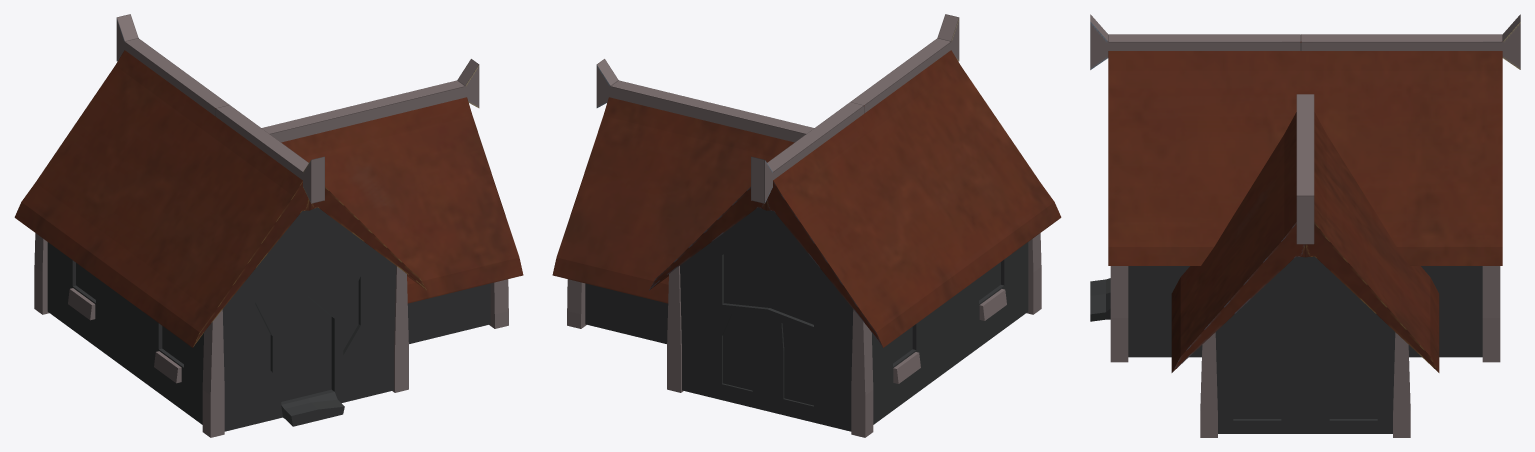
The model's file is house01.fbx.
The picture shows the model from 3 angles, left to right: view 1: azimuth 30°, elevation 25°; view 2: azimuth 150°, elevation 25°; view 3: azimuth 270°, elevation 25°; orthographic projection. The views are drawn at different scales.
Visible parts, largest first — view 1: cuboid_1, cuboid, cuboid_4, cuboid_5, cuboid_6, cuboid_7, cuboid_11, cuboid_10, cuboid_2, cuboid_12, cuboid_8, cuboid_14 (+1 smaller); view 2: cuboid_1, cuboid, cuboid_3, cuboid_5, cuboid_7, cuboid_6, cuboid_12, cuboid_13, cuboid_2, cuboid_11, cuboid_9, cuboid_15 (+1 smaller); view 3: cuboid_2, cuboid, cuboid_3, cuboid_4, cuboid_7, cuboid_6, cuboid_5, cuboid_10, cuboid_13, cuboid_8, cuboid_9.
Part boxes in pixels (left/top/right/bottom): cuboid_1: left=14, top=50, right=309, bottom=347; cuboid: left=47, top=207, right=490, bottom=431; cuboid_4: left=281, top=97, right=523, bottom=303; cuboid_5: left=262, top=59, right=479, bottom=142; cuboid_6: left=216, top=105, right=324, bottom=203; cuboid_7: left=116, top=14, right=229, bottom=116; cuboid_11: left=202, top=309, right=224, bottom=437; cuboid_10: left=392, top=266, right=408, bottom=392; cuboid_2: left=310, top=187, right=426, bottom=290; cuboid_12: left=34, top=233, right=49, bottom=314; cuboid_8: left=489, top=279, right=508, bottom=328; cuboid_14: left=68, top=288, right=95, bottom=320; cuboid_1: left=766, top=50, right=1061, bottom=347; cuboid: left=585, top=207, right=1028, bottom=431; cuboid_3: left=552, top=97, right=794, bottom=303; cuboid_5: left=596, top=59, right=813, bottom=142; cuboid_7: left=751, top=102, right=864, bottom=203; cuboid_6: left=850, top=14, right=959, bottom=113; cuboid_12: left=851, top=309, right=873, bottom=437; cuboid_13: left=667, top=266, right=683, bottom=392; cuboid_2: left=649, top=187, right=765, bottom=290; cuboid_11: left=1026, top=233, right=1041, bottom=314; cuboid_9: left=567, top=279, right=586, bottom=328; cuboid_15: left=979, top=289, right=1006, bottom=320; cuboid_2: left=1108, top=41, right=1502, bottom=265; cuboid: left=1090, top=256, right=1482, bottom=433; cuboid_3: left=1304, top=112, right=1439, bottom=372; cuboid_4: left=1171, top=112, right=1306, bottom=372; cuboid_7: left=1301, top=14, right=1520, bottom=69; cuboid_6: left=1090, top=14, right=1300, bottom=69; cuboid_5: left=1296, top=94, right=1314, bottom=244; cuboid_10: left=1110, top=266, right=1128, bottom=362; cuboid_13: left=1482, top=266, right=1500, bottom=362; cuboid_8: left=1200, top=332, right=1217, bottom=437; cuboid_9: left=1393, top=332, right=1410, bottom=437.
Bounding box in the file's own units: 1324 × 894 × 1200.
Materials: 3 (3 with a texture image).
